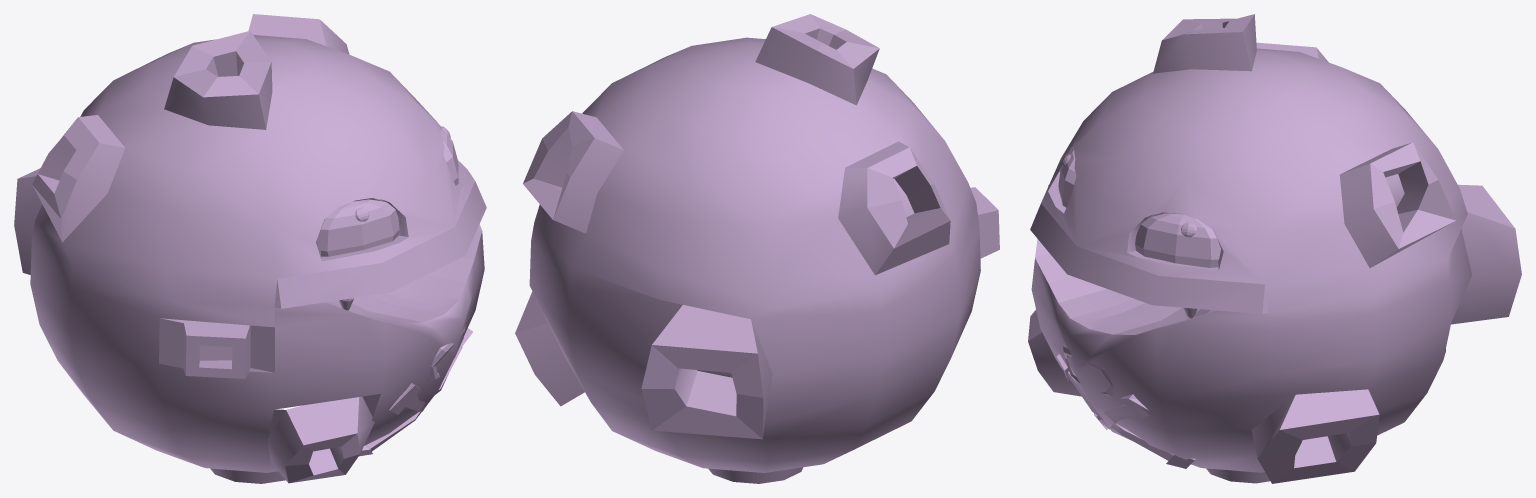
The model's file is koffing.glb.
The picture shows the model from 3 angles, left to right: view 1: azimuth 30°, elevation 25°; view 2: azimuth 150°, elevation 25°; view 3: azimuth 270°, elevation 25°; orthographic projection. The views are drawn at different scales.
Visible parts, largest first — view 1: Node; view 2: Node; view 3: Node.
Boxes of the visible parts, x1,y1,x2,y2 form: Node: (14,14,486,483); Node: (515,14,999,483); Node: (1028,14,1521,483).
Size of the model in its own units: 6.62 by 6.85 by 7.2.
